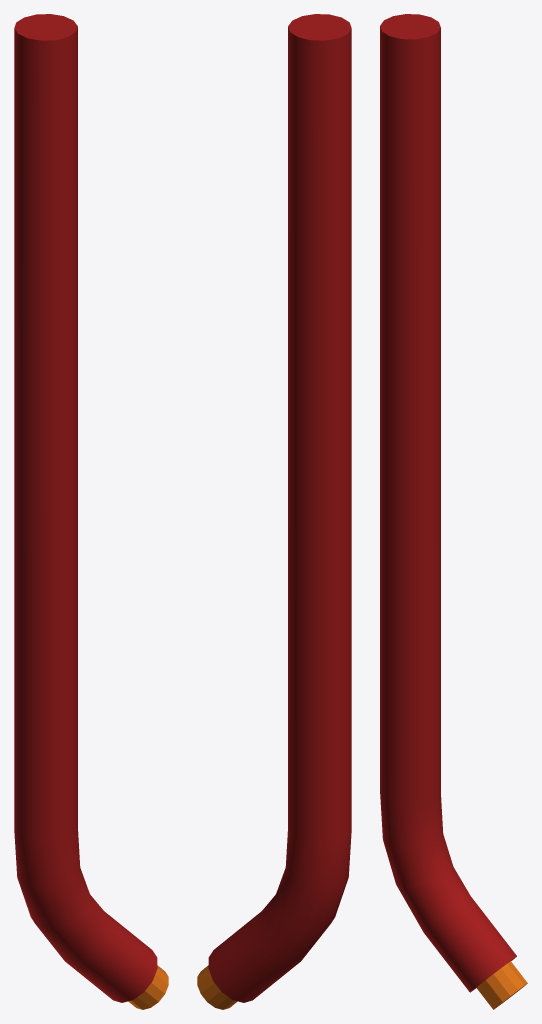
The model's file is powerline0.2.fbx.
3 renders of one model, left to right at view 1: azimuth 30°, elevation 25°; view 2: azimuth 150°, elevation 25°; view 3: azimuth 330°, elevation 25°, orthographic. The views are drawn at different scales.
Parts seen in each view (by area): view 1: powerline; view 2: powerline; view 3: powerline.
Part boxes in pixels (x1,y1,x2,y2): powerline: (14, 14, 168, 1009); powerline: (197, 14, 351, 1009); powerline: (380, 14, 527, 1009).
Size of the model in its own units: 5.31 by 34.67 by 1.95.
